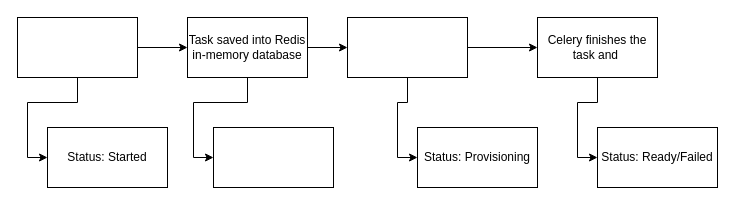
Image size: 735x205. Some labels were removed from this diagram. The centre of each missing label's shape, as x and y in pixels:
Celery takes the task from Redis and executes it: (407,47)
POST request received: (77,47)
Status: Queued: (273,157)
